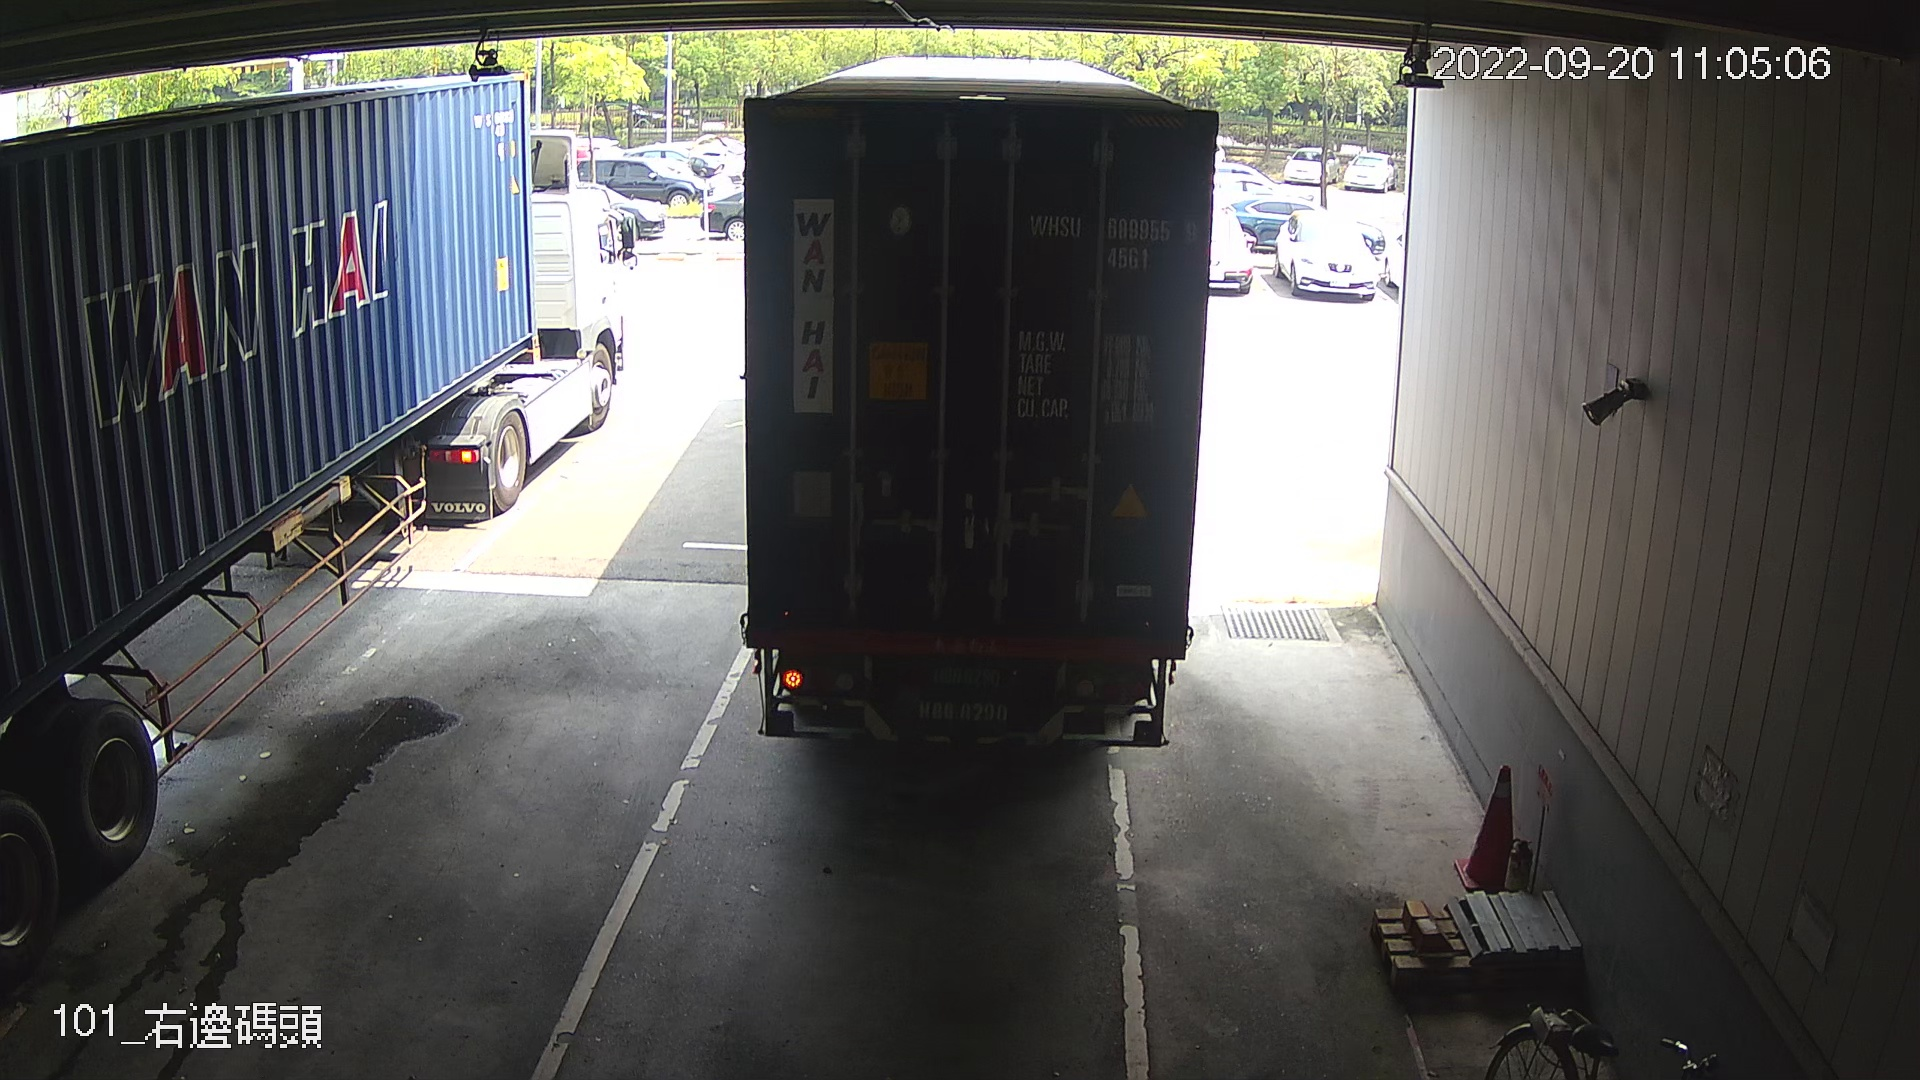container: (1019, 202, 1201, 280)
